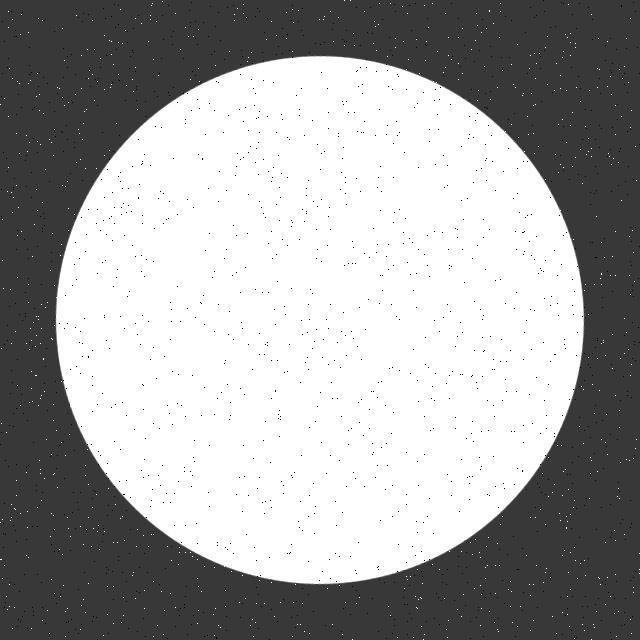Circle: (51, 47, 592, 592)
